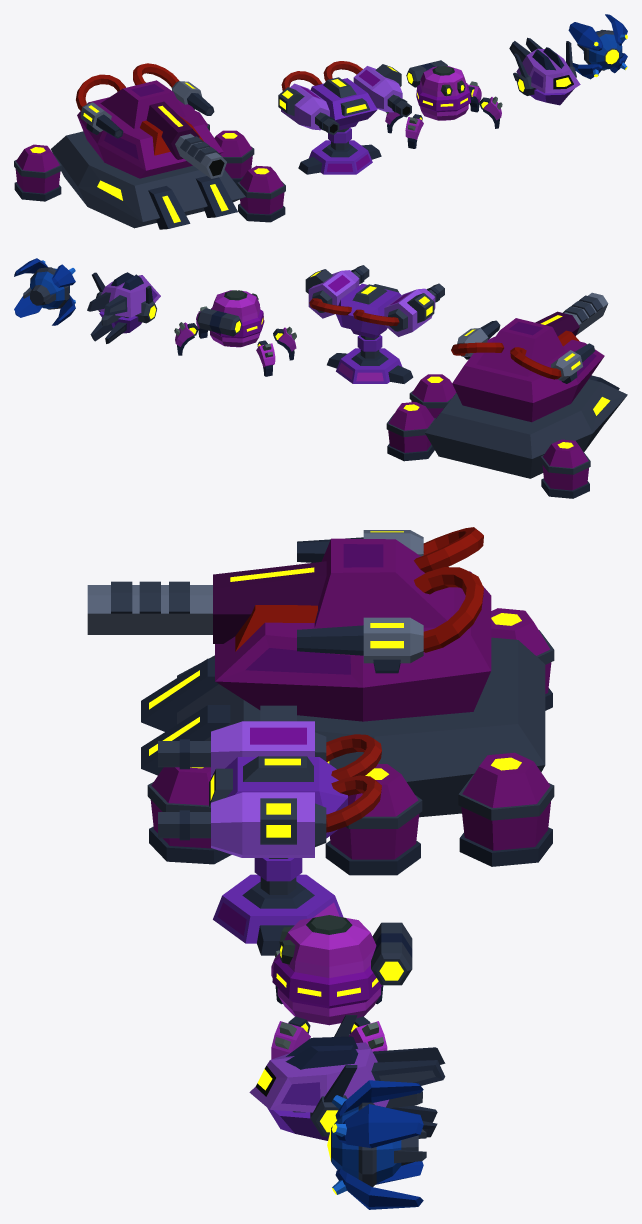
File: enemies-1.fbx
3 views of the same model, one above another, from view 1: azimuth 30°, elevation 25°; view 2: azimuth 150°, elevation 25°; view 3: azimuth 270°, elevation 25° (orthographic). The views are drawn at different scales.
Visible parts, largest first — view 1: enemy-tank-.001, enemy-tank-, enemy-canon-1.001, enemy-chaser-1, enemy-spider-1.001, enemy-shooter-1, enemy-canon-1, enemy-tank-.005, enemy-tank-.002, enemy-tank-.003, enemy-spider-1.004, enemy-spider-1.003 (+1 smaller); view 2: enemy-tank-.001, enemy-tank-, enemy-canon-1.001, enemy-chaser-1, enemy-spider-1.001, enemy-shooter-1, enemy-canon-1, enemy-tank-.005, enemy-tank-.004, enemy-tank-.003, enemy-spider-1, enemy-spider-1.002 (+1 smaller); view 3: enemy-tank-.001, enemy-canon-1.001, enemy-tank-, enemy-chaser-1, enemy-spider-1.001, enemy-shooter-1, enemy-tank-.004, enemy-canon-1, enemy-tank-.003, enemy-tank-.002, enemy-tank-.005, enemy-spider-1.003.
Part boxes in pixels (x1,y1,x2,y2): enemy-tank-.001: [76, 63, 226, 178]; enemy-tank-: [51, 131, 245, 229]; enemy-canon-1.001: [278, 61, 411, 134]; enemy-chaser-1: [509, 37, 580, 105]; enemy-spider-1.001: [406, 60, 470, 120]; enemy-shooter-1: [568, 14, 627, 79]; enemy-canon-1: [298, 128, 381, 174]; enemy-tank-.005: [14, 144, 61, 201]; enemy-tank-.002: [237, 165, 285, 222]; enemy-tank-.003: [214, 130, 254, 185]; enemy-spider-1.004: [405, 114, 423, 148]; enemy-spider-1.003: [479, 96, 502, 128]; enemy-tank-.001: [451, 292, 608, 422]; enemy-tank-: [425, 375, 627, 478]; enemy-canon-1.001: [305, 265, 444, 338]; enemy-chaser-1: [87, 272, 160, 343]; enemy-spider-1.001: [197, 290, 264, 347]; enemy-shooter-1: [14, 258, 75, 325]; enemy-canon-1: [327, 335, 413, 383]; enemy-tank-.005: [540, 439, 590, 498]; enemy-tank-.004: [386, 402, 435, 461]; enemy-tank-.003: [409, 374, 456, 418]; enemy-spider-1: [256, 340, 275, 376]; enemy-spider-1.002: [174, 322, 198, 355]; enemy-tank-.001: [87, 527, 491, 721]; enemy-canon-1.001: [158, 705, 381, 857]; enemy-tank-: [141, 637, 545, 817]; enemy-chaser-1: [249, 1015, 445, 1140]; enemy-spider-1.001: [272, 915, 412, 1025]; enemy-shooter-1: [327, 1080, 426, 1209]; enemy-tank-.004: [458, 752, 554, 866]; enemy-canon-1: [213, 858, 343, 955]; enemy-tank-.003: [325, 764, 422, 875]; enemy-tank-.002: [147, 767, 231, 864]; enemy-tank-.005: [491, 608, 554, 710]; enemy-spider-1.003: [271, 1016, 310, 1059].
Bounding box in the file's own units: 1416 × 261 × 497.
